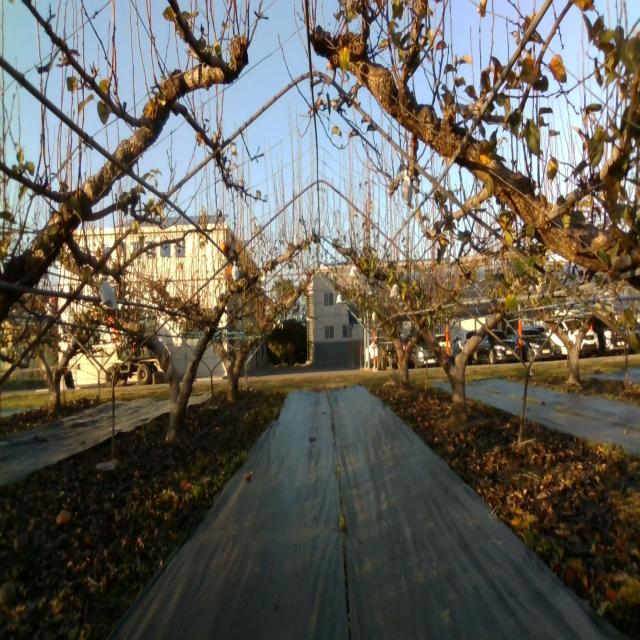pearbags: (100, 274, 118, 310), (401, 169, 413, 211)
